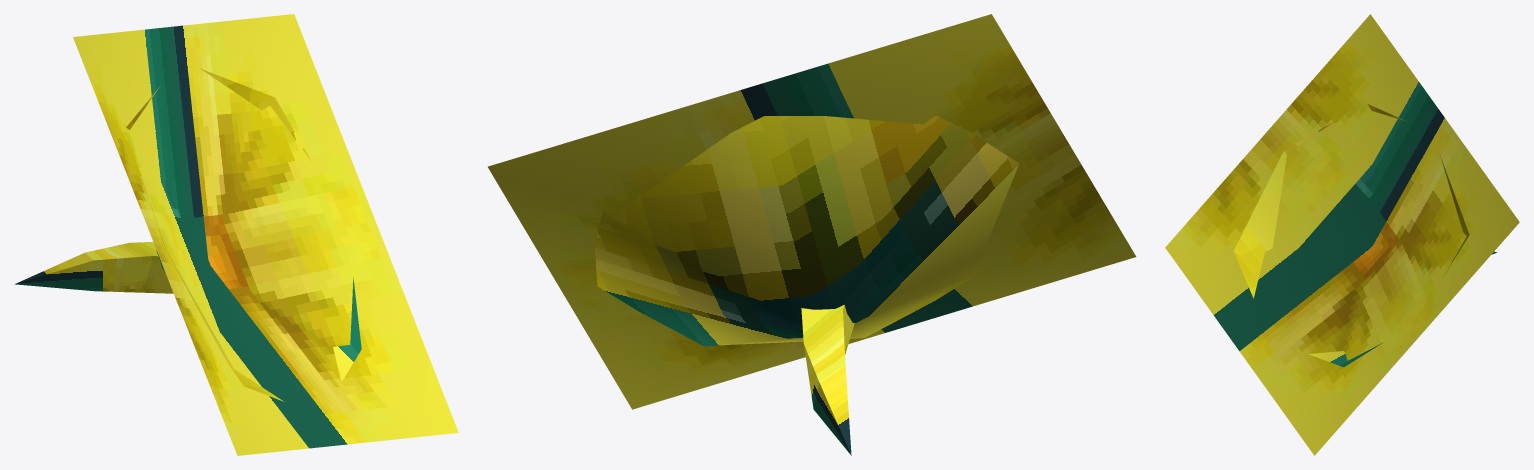
Rendered from flw_cosmos_ye_cap.dae.
3 renders of one model, left to right at view 1: azimuth 30°, elevation 25°; view 2: azimuth 150°, elevation 25°; view 3: azimuth 270°, elevation 25°, orthographic. The views are drawn at different scales.
Visible parts, largest first — view 1: flw_cosmos_ye_cap; view 2: flw_cosmos_ye_cap; view 3: flw_cosmos_ye_cap.
Boxes of the visible parts, x1=… form: flw_cosmos_ye_cap: x1=15, y1=14, x2=458, y2=455; flw_cosmos_ye_cap: x1=488, y1=14, x2=1136, y2=455; flw_cosmos_ye_cap: x1=1165, y1=14, x2=1519, y2=455.
Bounding box in the file's own units: 8.81 × 10.98 × 10.98.
1 material, 1 textured.
